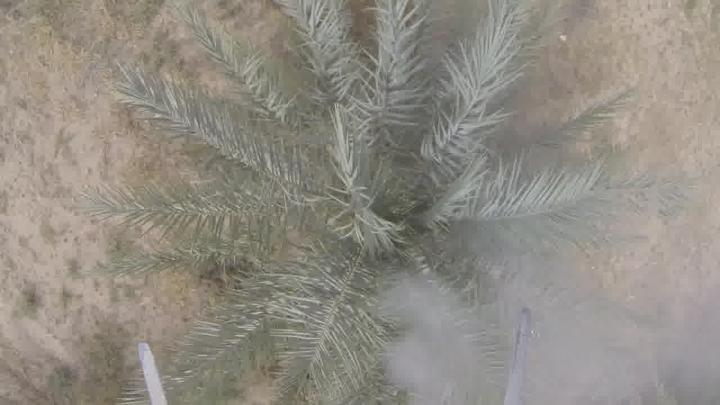Date-Palm-Crown: (228, 43, 536, 364)
